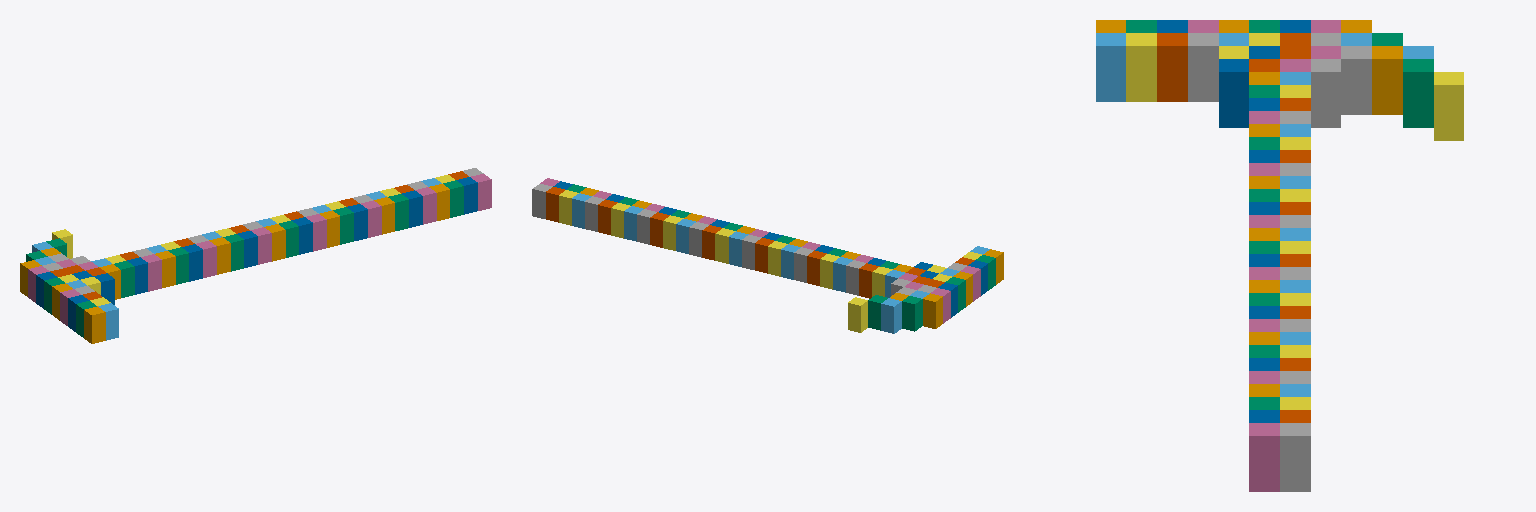
--- What the picture shows (computed from the rendered views, not written in the file) ---
Views: 3 orthographic renders of the robot side by side, from view 1: azimuth 30°, elevation 25°; view 2: azimuth 150°, elevation 25°; view 3: azimuth 270°, elevation 25°.
Model hammer with 88 links and 87 joints (87 fixed), rooted at box0, posed all joints at 0.
Links seen in each view (by area): view 1: box0; view 2: box25, box18, box16, box27; view 3: box3, box5, box7, box23, box24, box26, box86, box87, box1, box27, box28, box31.
Boxes of the visible links, <box> form: box0: <box>84,306,105,343</box>; box25: <box>881,298,901,333</box>; box18: <box>902,296,922,331</box>; box16: <box>923,293,942,328</box>; box27: <box>848,297,867,332</box>; box3: <box>1126,33,1156,101</box>; box5: <box>1157,33,1187,101</box>; box7: <box>1188,33,1218,101</box>; box23: <box>1341,46,1371,114</box>; box24: <box>1372,46,1402,114</box>; box26: <box>1403,59,1433,127</box>; box86: <box>1249,423,1279,491</box>; box87: <box>1280,423,1310,491</box>; box1: <box>1096,33,1125,101</box>; box27: <box>1434,72,1463,140</box>; box28: <box>1219,59,1248,127</box>; box31: <box>1311,59,1340,127</box>.
Size in the robot's own frame: 32 by 12 by 2 metres.
Geometry: primitives only (box / cylinder / sphere), no mesh files.

URDF robot description (hammer):
<robot name = "hammer">
	<link name = "box0">
		<visual>
			<origin xyz="0.0 0.0 0.0"/>
			<geometry>
				<box size = "1 1 2"/>
			</geometry>
		</visual>
		<collision>
			<origin xyz="0.0 0.0 0.0"/>
			<geometry>
				<box size = "1 1 2"/>
			</geometry>
		</collision>
		<contact>
			<lateral_friction value = "0.1"/>
		</contact>
		<inertial>
			<mass value = "0.0011363636363636365"/>
			<inertia ixx="0.00047348484848484855" ixy="0.0" ixz="0.0" iyy="0.00047348484848484855" iyz="0.0" izz="0.00018939393939393942"/>
			<origin xyz="0.0 0.0 0.0"/>
		</inertial>
	</link>
	<link name = "box1">
		<visual>
			<origin xyz="1.0 0.0 0.0"/>
			<geometry>
				<box size = "1 1 2"/>
			</geometry>
		</visual>
		<collision>
			<origin xyz="1.0 0.0 0.0"/>
			<geometry>
				<box size = "1 1 2"/>
			</geometry>
		</collision>
		<contact>
			<lateral_friction value = "0.1"/>
		</contact>
		<inertial>
			<mass value = "0.0011363636363636365"/>
			<inertia ixx="0.00047348484848484855" ixy="0.0" ixz="0.0" iyy="0.00047348484848484855" iyz="0.0" izz="0.00018939393939393942"/>
			<origin xyz="1.0 0.0 0.0"/>
		</inertial>
	</link>
	<joint name = "joint1" type = "fixed">
		<parent link = "box0"/>
		<child link = "box1"/>
	</joint>
	<link name = "box2">
		<visual>
			<origin xyz="0.0 1.0 0.0"/>
			<geometry>
				<box size = "1 1 2"/>
			</geometry>
		</visual>
		<collision>
			<origin xyz="0.0 1.0 0.0"/>
			<geometry>
				<box size = "1 1 2"/>
			</geometry>
		</collision>
		<contact>
			<lateral_friction value = "0.1"/>
		</contact>
		<inertial>
			<mass value = "0.0011363636363636365"/>
			<inertia ixx="0.00047348484848484855" ixy="0.0" ixz="0.0" iyy="0.00047348484848484855" iyz="0.0" izz="0.00018939393939393942"/>
			<origin xyz="0.0 1.0 0.0"/>
		</inertial>
	</link>
	<joint name = "joint2" type = "fixed">
		<parent link = "box0"/>
		<child link = "box2"/>
	</joint>
	<link name = "box3">
		<visual>
			<origin xyz="1.0 1.0 0.0"/>
			<geometry>
				<box size = "1 1 2"/>
			</geometry>
		</visual>
		<collision>
			<origin xyz="1.0 1.0 0.0"/>
			<geometry>
				<box size = "1 1 2"/>
			</geometry>
		</collision>
		<contact>
			<lateral_friction value = "0.1"/>
		</contact>
		<inertial>
			<mass value = "0.0011363636363636365"/>
			<inertia ixx="0.00047348484848484855" ixy="0.0" ixz="0.0" iyy="0.00047348484848484855" iyz="0.0" izz="0.00018939393939393942"/>
			<origin xyz="1.0 1.0 0.0"/>
		</inertial>
	</link>
	<joint name = "joint3" type = "fixed">
		<parent link = "box0"/>
		<child link = "box3"/>
	</joint>
	<link name = "box4">
		<visual>
			<origin xyz="0.0 2.0 0.0"/>
			<geometry>
				<box size = "1 1 2"/>
			</geometry>
		</visual>
		<collision>
			<origin xyz="0.0 2.0 0.0"/>
			<geometry>
				<box size = "1 1 2"/>
			</geometry>
		</collision>
		<contact>
			<lateral_friction value = "0.1"/>
		</contact>
		<inertial>
			<mass value = "0.0011363636363636365"/>
			<inertia ixx="0.00047348484848484855" ixy="0.0" ixz="0.0" iyy="0.00047348484848484855" iyz="0.0" izz="0.00018939393939393942"/>
			<origin xyz="0.0 2.0 0.0"/>
		</inertial>
	</link>
	<joint name = "joint4" type = "fixed">
		<parent link = "box0"/>
		<child link = "box4"/>
	</joint>
	<link name = "box5">
		<visual>
			<origin xyz="1.0 2.0 0.0"/>
			<geometry>
				<box size = "1 1 2"/>
			</geometry>
		</visual>
		<collision>
			<origin xyz="1.0 2.0 0.0"/>
			<geometry>
				<box size = "1 1 2"/>
			</geometry>
		</collision>
		<contact>
			<lateral_friction value = "0.1"/>
		</contact>
		<inertial>
			<mass value = "0.0011363636363636365"/>
			<inertia ixx="0.00047348484848484855" ixy="0.0" ixz="0.0" iyy="0.00047348484848484855" iyz="0.0" izz="0.00018939393939393942"/>
			<origin xyz="1.0 2.0 0.0"/>
		</inertial>
	</link>
	<joint name = "joint5" type = "fixed">
		<parent link = "box0"/>
		<child link = "box5"/>
	</joint>
	<link name = "box6">
		<visual>
			<origin xyz="0.0 3.0 0.0"/>
			<geometry>
				<box size = "1 1 2"/>
			</geometry>
		</visual>
		<collision>
			<origin xyz="0.0 3.0 0.0"/>
			<geometry>
				<box size = "1 1 2"/>
			</geometry>
		</collision>
		<contact>
			<lateral_friction value = "0.1"/>
		</contact>
		<inertial>
			<mass value = "0.0011363636363636365"/>
			<inertia ixx="0.00047348484848484855" ixy="0.0" ixz="0.0" iyy="0.00047348484848484855" iyz="0.0" izz="0.00018939393939393942"/>
			<origin xyz="0.0 3.0 0.0"/>
		</inertial>
	</link>
	<joint name = "joint6" type = "fixed">
		<parent link = "box0"/>
		<child link = "box6"/>
	</joint>
	<link name = "box7">
		<visual>
			<origin xyz="1.0 3.0 0.0"/>
			<geometry>
				<box size = "1 1 2"/>
			</geometry>
		</visual>
		<collision>
			<origin xyz="1.0 3.0 0.0"/>
			<geometry>
				<box size = "1 1 2"/>
			</geometry>
		</collision>
		<contact>
			<lateral_friction value = "0.1"/>
		</contact>
		<inertial>
			<mass value = "0.0011363636363636365"/>
			<inertia ixx="0.00047348484848484855" ixy="0.0" ixz="0.0" iyy="0.00047348484848484855" iyz="0.0" izz="0.00018939393939393942"/>
			<origin xyz="1.0 3.0 0.0"/>
		</inertial>
	</link>
	<joint name = "joint7" type = "fixed">
		<parent link = "box0"/>
		<child link = "box7"/>
	</joint>
	<link name = "box8">
		<visual>
			<origin xyz="0.0 4.0 0.0"/>
			<geometry>
				<box size = "1 1 2"/>
			</geometry>
		</visual>
		<collision>
			<origin xyz="0.0 4.0 0.0"/>
			<geometry>
				<box size = "1 1 2"/>
			</geometry>
		</collision>
		<contact>
			<lateral_friction value = "0.1"/>
		</contact>
		<inertial>
			<mass value = "0.0011363636363636365"/>
			<inertia ixx="0.00047348484848484855" ixy="0.0" ixz="0.0" iyy="0.00047348484848484855" iyz="0.0" izz="0.00018939393939393942"/>
			<origin xyz="0.0 4.0 0.0"/>
		</inertial>
	</link>
	<joint name = "joint8" type = "fixed">
		<parent link = "box0"/>
		<child link = "box8"/>
	</joint>
	<link name = "box9">
		<visual>
			<origin xyz="1.0 4.0 0.0"/>
			<geometry>
				<box size = "1 1 2"/>
			</geometry>
		</visual>
		<collision>
			<origin xyz="1.0 4.0 0.0"/>
			<geometry>
				<box size = "1 1 2"/>
			</geometry>
		</collision>
		<contact>
			<lateral_friction value = "0.1"/>
		</contact>
		<inertial>
			<mass value = "0.0011363636363636365"/>
			<inertia ixx="0.00047348484848484855" ixy="0.0" ixz="0.0" iyy="0.00047348484848484855" iyz="0.0" izz="0.00018939393939393942"/>
			<origin xyz="1.0 4.0 0.0"/>
		</inertial>
	</link>
	<joint name = "joint9" type = "fixed">
		<parent link = "box0"/>
		<child link = "box9"/>
	</joint>
	<link name = "box10">
		<visual>
			<origin xyz="0.0 5.0 0.0"/>
			<geometry>
				<box size = "1 1 2"/>
			</geometry>
		</visual>
		<collision>
			<origin xyz="0.0 5.0 0.0"/>
			<geometry>
				<box size = "1 1 2"/>
			</geometry>
		</collision>
		<contact>
			<lateral_friction value = "0.1"/>
		</contact>
		<inertial>
			<mass value = "0.0011363636363636365"/>
			<inertia ixx="0.00047348484848484855" ixy="0.0" ixz="0.0" iyy="0.00047348484848484855" iyz="0.0" izz="0.00018939393939393942"/>
			<origin xyz="0.0 5.0 0.0"/>
		</inertial>
	</link>
	<joint name = "joint10" type = "fixed">
		<parent link = "box0"/>
		<child link = "box10"/>
	</joint>
	<link name = "box11">
		<visual>
			<origin xyz="1.0 5.0 0.0"/>
			<geometry>
				<box size = "1 1 2"/>
			</geometry>
		</visual>
		<collision>
			<origin xyz="1.0 5.0 0.0"/>
			<geometry>
				<box size = "1 1 2"/>
			</geometry>
		</collision>
		<contact>
			<lateral_friction value = "0.1"/>
		</contact>
		<inertial>
			<mass value = "0.0011363636363636365"/>
			<inertia ixx="0.00047348484848484855" ixy="0.0" ixz="0.0" iyy="0.00047348484848484855" iyz="0.0" izz="0.00018939393939393942"/>
			<origin xyz="1.0 5.0 0.0"/>
		</inertial>
	</link>
	<joint name = "joint11" type = "fixed">
		<parent link = "box0"/>
		<child link = "box11"/>
	</joint>
	<link name = "box12">
		<visual>
			<origin xyz="0.0 6.0 0.0"/>
			<geometry>
				<box size = "1 1 2"/>
			</geometry>
		</visual>
		<collision>
			<origin xyz="0.0 6.0 0.0"/>
			<geometry>
				<box size = "1 1 2"/>
			</geometry>
		</collision>
		<contact>
			<lateral_friction value = "0.1"/>
		</contact>
		<inertial>
			<mass value = "0.0011363636363636365"/>
			<inertia ixx="0.00047348484848484855" ixy="0.0" ixz="0.0" iyy="0.00047348484848484855" iyz="0.0" izz="0.00018939393939393942"/>
			<origin xyz="0.0 6.0 0.0"/>
		</inertial>
	</link>
	<joint name = "joint12" type = "fixed">
		<parent link = "box0"/>
		<child link = "box12"/>
	</joint>
	<link name = "box13">
		<visual>
			<origin xyz="1.0 6.0 0.0"/>
			<geometry>
				<box size = "1 1 2"/>
			</geometry>
		</visual>
		<collision>
			<origin xyz="1.0 6.0 0.0"/>
			<geometry>
				<box size = "1 1 2"/>
			</geometry>
		</collision>
		<contact>
			<lateral_friction value = "0.1"/>
		</contact>
		<inertial>
			<mass value = "0.0011363636363636365"/>
			<inertia ixx="0.00047348484848484855" ixy="0.0" ixz="0.0" iyy="0.00047348484848484855" iyz="0.0" izz="0.00018939393939393942"/>
			<origin xyz="1.0 6.0 0.0"/>
		</inertial>
	</link>
	<joint name = "joint13" type = "fixed">
		<parent link = "box0"/>
		<child link = "box13"/>
	</joint>
	<link name = "box14">
		<visual>
			<origin xyz="0.0 7.0 0.0"/>
			<geometry>
				<box size = "1 1 2"/>
			</geometry>
		</visual>
		<collision>
			<origin xyz="0.0 7.0 0.0"/>
			<geometry>
				<box size = "1 1 2"/>
			</geometry>
		</collision>
		<contact>
			<lateral_friction value = "0.1"/>
		</contact>
		<inertial>
			<mass value = "0.0011363636363636365"/>
			<inertia ixx="0.00047348484848484855" ixy="0.0" ixz="0.0" iyy="0.00047348484848484855" iyz="0.0" izz="0.00018939393939393942"/>
			<origin xyz="0.0 7.0 0.0"/>
		</inertial>
	</link>
	<joint name = "joint14" type = "fixed">
		<parent link = "box0"/>
		<child link = "box14"/>
	</joint>
	<link name = "box15">
		<visual>
			<origin xyz="1.0 7.0 0.0"/>
			<geometry>
				<box size = "1 1 2"/>
			</geometry>
		</visual>
		<collision>
			<origin xyz="1.0 7.0 0.0"/>
			<geometry>
				<box size = "1 1 2"/>
			</geometry>
		</collision>
		<contact>
			<lateral_friction value = "0.1"/>
		</contact>
		<inertial>
			<mass value = "0.0011363636363636365"/>
			<inertia ixx="0.00047348484848484855" ixy="0.0" ixz="0.0" iyy="0.00047348484848484855" iyz="0.0" izz="0.00018939393939393942"/>
			<origin xyz="1.0 7.0 0.0"/>
		</inertial>
	</link>
	<joint name = "joint15" type = "fixed">
		<parent link = "box0"/>
		<child link = "box15"/>
	</joint>
	<link name = "box16">
		<visual>
			<origin xyz="0.0 8.0 0.0"/>
			<geometry>
				<box size = "1 1 2"/>
			</geometry>
		</visual>
		<collision>
			<origin xyz="0.0 8.0 0.0"/>
			<geometry>
				<box size = "1 1 2"/>
			</geometry>
		</collision>
		<contact>
			<lateral_friction value = "0.1"/>
		</contact>
		<inertial>
			<mass value = "0.0011363636363636365"/>
			<inertia ixx="0.00047348484848484855" ixy="0.0" ixz="0.0" iyy="0.00047348484848484855" iyz="0.0" izz="0.00018939393939393942"/>
			<origin xyz="0.0 8.0 0.0"/>
		</inertial>
	</link>
	<joint name = "joint16" type = "fixed">
		<parent link = "box0"/>
		<child link = "box16"/>
	</joint>
	<link name = "box17">
		<visual>
			<origin xyz="1.0 8.0 0.0"/>
			<geometry>
				<box size = "1 1 2"/>
			</geometry>
		</visual>
		<collision>
			<origin xyz="1.0 8.0 0.0"/>
			<geometry>
				<box size = "1 1 2"/>
			</geometry>
		</collision>
		<contact>
			<lateral_friction value = "0.1"/>
		</contact>
		<inertial>
			<mass value = "0.0011363636363636365"/>
			<inertia ixx="0.00047348484848484855" ixy="0.0" ixz="0.0" iyy="0.00047348484848484855" iyz="0.0" izz="0.00018939393939393942"/>
			<origin xyz="1.0 8.0 0.0"/>
		</inertial>
	</link>
	<joint name = "joint17" type = "fixed">
		<parent link = "box0"/>
		<child link = "box17"/>
	</joint>
	<link name = "box18">
		<visual>
			<origin xyz="1.0 9.0 0.0"/>
			<geometry>
				<box size = "1 1 2"/>
			</geometry>
		</visual>
		<collision>
			<origin xyz="1.0 9.0 0.0"/>
			<geometry>
				<box size = "1 1 2"/>
			</geometry>
		</collision>
		<contact>
			<lateral_friction value = "0.1"/>
		</contact>
		<inertial>
			<mass value = "0.0011363636363636365"/>
			<inertia ixx="0.00047348484848484855" ixy="0.0" ixz="0.0" iyy="0.00047348484848484855" iyz="0.0" izz="0.00018939393939393942"/>
			<origin xyz="1.0 9.0 0.0"/>
		</inertial>
	</link>
	<joint name = "joint18" type = "fixed">
		<parent link = "box0"/>
		<child link = "box18"/>
	</joint>
	<link name = "box19">
		<visual>
			<origin xyz="2.0 4.0 0.0"/>
			<geometry>
				<box size = "1 1 2"/>
			</geometry>
		</visual>
		<collision>
			<origin xyz="2.0 4.0 0.0"/>
			<geometry>
				<box size = "1 1 2"/>
			</geometry>
		</collision>
		<contact>
			<lateral_friction value = "0.1"/>
		</contact>
		<inertial>
			<mass value = "0.0011363636363636365"/>
			<inertia ixx="0.00047348484848484855" ixy="0.0" ixz="0.0" iyy="0.00047348484848484855" iyz="0.0" izz="0.00018939393939393942"/>
			<origin xyz="2.0 4.0 0.0"/>
		</inertial>
	</link>
	<joint name = "joint19" type = "fixed">
		<parent link = "box0"/>
		<child link = "box19"/>
	</joint>
	<link name = "box20">
		<visual>
			<origin xyz="2.0 5.0 0.0"/>
			<geometry>
				<box size = "1 1 2"/>
			</geometry>
		</visual>
		<collision>
			<origin xyz="2.0 5.0 0.0"/>
			<geometry>
				<box size = "1 1 2"/>
			</geometry>
		</collision>
		<contact>
			<lateral_friction value = "0.1"/>
		</contact>
		<inertial>
			<mass value = "0.0011363636363636365"/>
			<inertia ixx="0.00047348484848484855" ixy="0.0" ixz="0.0" iyy="0.00047348484848484855" iyz="0.0" izz="0.00018939393939393942"/>
			<origin xyz="2.0 5.0 0.0"/>
		</inertial>
	</link>
	<joint name = "joint20" type = "fixed">
		<parent link = "box0"/>
		<child link = "box20"/>
	</joint>
	<link name = "box21">
		<visual>
			<origin xyz="2.0 6.0 0.0"/>
			<geometry>
				<box size = "1 1 2"/>
			</geometry>
		</visual>
		<collision>
			<origin xyz="2.0 6.0 0.0"/>
			<geometry>
				<box size = "1 1 2"/>
			</geometry>
		</collision>
		<contact>
			<lateral_friction value = "0.1"/>
		</contact>
		<inertial>
			<mass value = "0.0011363636363636365"/>
			<inertia ixx="0.00047348484848484855" ixy="0.0" ixz="0.0" iyy="0.00047348484848484855" iyz="0.0" izz="0.00018939393939393942"/>
			<origin xyz="2.0 6.0 0.0"/>
		</inertial>
	</link>
	<joint name = "joint21" type = "fixed">
		<parent link = "box0"/>
		<child link = "box21"/>
	</joint>
	<link name = "box22">
		<visual>
			<origin xyz="2.0 7.0 0.0"/>
			<geometry>
				<box size = "1 1 2"/>
			</geometry>
		</visual>
		<collision>
			<origin xyz="2.0 7.0 0.0"/>
			<geometry>
				<box size = "1 1 2"/>
			</geometry>
		</collision>
		<contact>
			<lateral_friction value = "0.1"/>
		</contact>
		<inertial>
			<mass value = "0.0011363636363636365"/>
			<inertia ixx="0.00047348484848484855" ixy="0.0" ixz="0.0" iyy="0.00047348484848484855" iyz="0.0" izz="0.00018939393939393942"/>
			<origin xyz="2.0 7.0 0.0"/>
		</inertial>
	</link>
	<joint name = "joint22" type = "fixed">
		<parent link = "box0"/>
		<child link = "box22"/>
	</joint>
	<link name = "box23">
		<visual>
			<origin xyz="2.0 8.0 0.0"/>
			<geometry>
				<box size = "1 1 2"/>
			</geometry>
		</visual>
		<collision>
			<origin xyz="2.0 8.0 0.0"/>
			<geometry>
				<box size = "1 1 2"/>
			</geometry>
		</collision>
		<contact>
			<lateral_friction value = "0.1"/>
		</contact>
		<inertial>
			<mass value = "0.0011363636363636365"/>
			<inertia ixx="0.00047348484848484855" ixy="0.0" ixz="0.0" iyy="0.00047348484848484855" iyz="0.0" izz="0.00018939393939393942"/>
			<origin xyz="2.0 8.0 0.0"/>
		</inertial>
	</link>
	<joint name = "joint23" type = "fixed">
		<parent link = "box0"/>
		<child link = "box23"/>
	</joint>
	<link name = "box24">
		<visual>
			<origin xyz="2.0 9.0 0.0"/>
			<geometry>
				<box size = "1 1 2"/>
			</geometry>
		</visual>
		<collision>
			<origin xyz="2.0 9.0 0.0"/>
			<geometry>
				<box size = "1 1 2"/>
			</geometry>
		</collision>
		<contact>
			<lateral_friction value = "0.1"/>
		</contact>
		<inertial>
			<mass value = "0.0011363636363636365"/>
			<inertia ixx="0.00047348484848484855" ixy="0.0" ixz="0.0" iyy="0.00047348484848484855" iyz="0.0" izz="0.00018939393939393942"/>
			<origin xyz="2.0 9.0 0.0"/>
		</inertial>
	</link>
	<joint name = "joint24" type = "fixed">
		<parent link = "box0"/>
		<child link = "box24"/>
	</joint>
	<link name = "box25">
		<visual>
			<origin xyz="2.0 10.0 0.0"/>
			<geometry>
				<box size = "1 1 2"/>
			</geometry>
		</visual>
		<collision>
			<origin xyz="2.0 10.0 0.0"/>
			<geometry>
				<box size = "1 1 2"/>
			</geometry>
		</collision>
		<contact>
			<lateral_friction value = "0.15"/>
		</contact>
		<inertial>
			<mass value = "0.0017045454545454545"/>
			<inertia ixx="0.0007102272727272726" ixy="0.0" ixz="0.0" iyy="0.0007102272727272726" iyz="0.0" izz="0.0002840909090909091"/>
			<origin xyz="2.0 10.0 0.0"/>
		</inertial>
	</link>
	<joint name = "joint25" type = "fixed">
		<parent link = "box0"/>
		<child link = "box25"/>
	</joint>
	<link name = "box26">
		<visual>
			<origin xyz="3.0 10.0 0.0"/>
			<geometry>
				<box size = "1 1 2"/>
			</geometry>
		</visual>
		<collision>
			<origin xyz="3.0 10.0 0.0"/>
			<geometry>
				<box size = "1 1 2"/>
			</geometry>
		</collision>
		<contact>
			<lateral_friction value = "0.15"/>
		</contact>
		<inertial>
			<mass value = "0.0017045454545454545"/>
			<inertia ixx="0.0007102272727272726" ixy="0.0" ixz="0.0" iyy="0.0007102272727272726" iyz="0.0" izz="0.0002840909090909091"/>
			<origin xyz="3.0 10.0 0.0"/>
		</inertial>
	</link>
	<joint name = "joint26" type = "fixed">
		<parent link = "box0"/>
		<child link = "box26"/>
	</joint>
	<link name = "box27">
		<visual>
			<origin xyz="4.0 11.0 0.0"/>
			<geometry>
				<box size = "1 1 2"/>
			</geometry>
		</visual>
		<collision>
			<origin xyz="4.0 11.0 0.0"/>
			<geometry>
				<box size = "1 1 2"/>
			</geometry>
		</collision>
		<contact>
			<lateral_friction value = "0.15"/>
		</contact>
		<inertial>
			<mass value = "0.0017045454545454545"/>
			<inertia ixx="0.0007102272727272726" ixy="0.0" ixz="0.0" iyy="0.0007102272727272726" iyz="0.0" izz="0.0002840909090909091"/>
			<origin xyz="4.0 11.0 0.0"/>
		</inertial>
	</link>
	<joint name = "joint27" type = "fixed">
		<parent link = "box0"/>
		<child link = "box27"/>
	</joint>
	<link name = "box28">
		<visual>
			<origin xyz="3.0 4.0 0.0"/>
			<geometry>
				<box size = "1 1 2"/>
			</geometry>
		</visual>
		<collision>
			<origin xyz="3.0 4.0 0.0"/>
			<geometry>
				<box size = "1 1 2"/>
			</geometry>
		</collision>
		<contact>
			<lateral_friction value = "0.15"/>
		</contact>
		<inertial>
			<mass value = "0.0017045454545454545"/>
			<inertia ixx="0.0007102272727272726" ixy="0.0" ixz="0.0" iyy="0.0007102272727272726" iyz="0.0" izz="0.0002840909090909091"/>
			<origin xyz="3.0 4.0 0.0"/>
		</inertial>
	</link>
	<joint name = "joint28" type = "fixed">
		<parent link = "box0"/>
		<child link = "box28"/>
	</joint>
	<link name = "box29">
		<visual>
			<origin xyz="3.0 5.0 0.0"/>
			<geometry>
				<box size = "1 1 2"/>
			</geometry>
		</visual>
		<collision>
			<origin xyz="3.0 5.0 0.0"/>
			<geometry>
				<box size = "1 1 2"/>
			</geometry>
		</collision>
		<contact>
			<lateral_friction value = "0.15"/>
		</contact>
		<inertial>
			<mass value = "0.0017045454545454545"/>
			<inertia ixx="0.0007102272727272726" ixy="0.0" ixz="0.0" iyy="0.0007102272727272726" iyz="0.0" izz="0.0002840909090909091"/>
			<origin xyz="3.0 5.0 0.0"/>
		</inertial>
	</link>
	<joint name = "joint29" type = "fixed">
		<parent link = "box0"/>
		<child link = "box29"/>
	</joint>
	<link name = "box30">
		<visual>
			<origin xyz="3.0 6.0 0.0"/>
			<geometry>
				<box size = "1 1 2"/>
			</geometry>
		</visual>
		<collision>
			<origin xyz="3.0 6.0 0.0"/>
			<geometry>
				<box size = "1 1 2"/>
			</geometry>
		</collision>
		<contact>
			<lateral_friction value = "0.15"/>
		</contact>
		<inertial>
			<mass value = "0.0017045454545454545"/>
			<inertia ixx="0.0007102272727272726" ixy="0.0" ixz="0.0" iyy="0.0007102272727272726" iyz="0.0" izz="0.0002840909090909091"/>
			<origin xyz="3.0 6.0 0.0"/>
		</inertial>
	</link>
	<joint name = "joint30" type = "fixed">
		<parent link = "box0"/>
		<child link = "box30"/>
	</joint>
	<link name = "box31">
		<visual>
			<origin xyz="3.0 7.0 0.0"/>
			<geometry>
				<box size = "1 1 2"/>
			</geometry>
		</visual>
		<collision>
			<origin xyz="3.0 7.0 0.0"/>
			<geometry>
				<box size = "1 1 2"/>
			</geometry>
		</collision>
		<contact>
			<lateral_friction value = "0.15"/>
		</contact>
		<inertial>
			<mass value = "0.0017045454545454545"/>
			<inertia ixx="0.0007102272727272726" ixy="0.0" ixz="0.0" iyy="0.0007102272727272726" iyz="0.0" izz="0.0002840909090909091"/>
			<origin xyz="3.0 7.0 0.0"/>
		</inertial>
	</link>
	<joint name = "joint31" type = "fixed">
		<parent link = "box0"/>
		<child link = "box31"/>
	</joint>
	<link name = "box32">
		<visual>
			<origin xyz="4.0 5.0 0.0"/>
			<geometry>
				<box size = "1 1 2"/>
			</geometry>
		</visual>
		<collision>
			<origin xyz="4.0 5.0 0.0"/>
			<geometry>
				<box size = "1 1 2"/>
			</geometry>
		</collision>
		<contact>
			<lateral_friction value = "0.3"/>
		</contact>
		<inertial>
			<mass value = "0.003409090909090909"/>
			<inertia ixx="0.0014204545454545453" ixy="0.0" ixz="0.0" iyy="0.0014204545454545453" iyz="0.0" izz="0.0005681818181818182"/>
			<origin xyz="4.0 5.0 0.0"/>
		</inertial>
	</link>
	<joint name = "joint32" type = "fixed">
		<parent link = "box0"/>
		<child link = "box32"/>
	</joint>
	<link name = "box33">
		<visual>
			<origin xyz="4.0 6.0 0.0"/>
			<geometry>
				<box size = "1 1 2"/>
			</geometry>
		</visual>
		<collision>
			<origin xyz="4.0 6.0 0.0"/>
			<geometry>
				<box size = "1 1 2"/>
			</geometry>
		</collision>
		<contact>
			<lateral_friction value = "0.3"/>
		</contact>
		<inertial>
			<mass value = "0.003409090909090909"/>
			<inertia ixx="0.0014204545454545453" ixy="0.0" ixz="0.0" iyy="0.0014204545454545453" iyz="0.0" izz="0.0005681818181818182"/>
			<origin xyz="4.0 6.0 0.0"/>
		</inertial>
	</link>
	<joint name = "joint33" type = "fixed">
		<parent link = "box0"/>
		<child link = "box33"/>
	</joint>
	<link name = "box34">
		<visual>
			<origin xyz="5.0 5.0 0.0"/>
			<geometry>
				<box size = "1 1 2"/>
			</geometry>
		</visual>
		<collision>
			<origin xyz="5.0 5.0 0.0"/>
			<geometry>
				<box size = "1 1 2"/>
			</geometry>
		</collision>
		<contact>
			<lateral_friction value = "0.3"/>
		</contact>
		<inertial>
			<mass value = "0.003409090909090909"/>
			<inertia ixx="0.0014204545454545453" ixy="0.0" ixz="0.0" iyy="0.0014204545454545453" iyz="0.0" izz="0.0005681818181818182"/>
			<origin xyz="5.0 5.0 0.0"/>
		</inertial>
	</link>
	<joint name = "joint34" type = "fixed">
		<parent link = "box0"/>
		<child link = "box34"/>
	</joint>
	<link name = "box35">
		<visual>
			<origin xyz="5.0 6.0 0.0"/>
			<geometry>
				<box size = "1 1 2"/>
			</geometry>
		</visual>
		<collision>
			<origin xyz="5.0 6.0 0.0"/>
			<geometry>
				<box size = "1 1 2"/>
			</geometry>
		</collision>
		<contact>
			<lateral_friction value = "0.3"/>
		</contact>
		<inertial>
			<mass value = "0.003409090909090909"/>
			<inertia ixx="0.0014204545454545453" ixy="0.0" ixz="0.0" iyy="0.0014204545454545453" iyz="0.0" izz="0.0005681818181818182"/>
			<origin xyz="5.0 6.0 0.0"/>
		</inertial>
	</link>
	<joint name = "joint35" type = "fixed">
		<parent link = "box0"/>
		<child link = "box35"/>
	</joint>
	<link name = "box36">
		<visual>
			<origin xyz="6.0 5.0 0.0"/>
			<geometry>
				<box size = "1 1 2"/>
			</geometry>
		</visual>
		<collision>
			<origin xyz="6.0 5.0 0.0"/>
			<geometry>
				<box size = "1 1 2"/>
			</geometry>
		</collision>
		<contact>
			<lateral_friction value = "0.3"/>
		</contact>
		<inertial>
			<mass value = "0.003409090909090909"/>
			<inertia ixx="0.0014204545454545453" ixy="0.0" ixz="0.0" iyy="0.0014204545454545453" iyz="0.0" izz="0.0005681818181818182"/>
			<origin xyz="6.0 5.0 0.0"/>
		</inertial>
	</link>
	<joint name = "joint36" type = "fixed">
		<parent link = "box0"/>
		<child link = "box36"/>
	</joint>
	<link name = "box37">
		<visual>
			<origin xyz="6.0 6.0 0.0"/>
			<geometry>
				<box size = "1 1 2"/>
			</geometry>
		</visual>
		<collision>
			<origin xyz="6.0 6.0 0.0"/>
			<geometry>
				<box size = "1 1 2"/>
			</geometry>
		</collision>
		<contact>
			<lateral_friction value = "0.3"/>
		</contact>
		<inertial>
			<mass value = "0.003409090909090909"/>
			<inertia ixx="0.0014204545454545453" ixy="0.0" ixz="0.0" iyy="0.0014204545454545453" iyz="0.0" izz="0.0005681818181818182"/>
			<origin xyz="6.0 6.0 0.0"/>
		</inertial>
	</link>
	<joint name = "joint37" type = "fixed">
		<parent link = "box0"/>
		<child link = "box37"/>
	</joint>
	<link name = "box38">
		<visual>
			<origin xyz="7.0 5.0 0.0"/>
			<geometry>
				<box size = "1 1 2"/>
			</geometry>
		</visual>
		<collision>
			<origin xyz="7.0 5.0 0.0"/>
			<geometry>
				<box size = "1 1 2"/>
			</geometry>
		</collision>
		<contact>
			<lateral_friction value = "0.3"/>
		</contact>
		<inertial>
			<mass value = "0.003409090909090909"/>
			<inertia ixx="0.0014204545454545453" ixy="0.0" ixz="0.0" iyy="0.0014204545454545453" iyz="0.0" izz="0.0005681818181818182"/>
			<origin xyz="7.0 5.0 0.0"/>
		</inertial>
	</link>
	<joint name = "joint38" type = "fixed">
		<parent link = "box0"/>
		<child link = "box38"/>
	</joint>
	<link name = "box39">
		<visual>
			<origin xyz="7.0 6.0 0.0"/>
			<geometry>
				<box size = "1 1 2"/>
			</geometry>
		</visual>
		<collision>
			<origin xyz="7.0 6.0 0.0"/>
			<geometry>
				<box size = "1 1 2"/>
			</geometry>
		</collision>
		<contact>
			<lateral_friction value = "0.3"/>
		</contact>
		<inertial>
			<mass value = "0.003409090909090909"/>
			<inertia ixx="0.0014204545454545453" ixy="0.0" ixz="0.0" iyy="0.0014204545454545453" iyz="0.0" izz="0.0005681818181818182"/>
			<origin xyz="7.0 6.0 0.0"/>
		</inertial>
	</link>
	<joint name = "joint39" type = "fixed">
		<parent link = "box0"/>
		<child link = "box39"/>
	</joint>
	<link name = "box40">
		<visual>
			<origin xyz="8.0 5.0 0.0"/>
			<geometry>
				<box size = "1 1 2"/>
			</geometry>
		</visual>
		<collision>
			<origin xyz="8.0 5.0 0.0"/>
			<geometry>
				<box size = "1 1 2"/>
			</geometry>
		</collision>
		<contact>
			<lateral_friction value = "0.3"/>
		</contact>
		<inertial>
			<mass value = "0.003409090909090909"/>
			<inertia ixx="0.0014204545454545453" ixy="0.0" ixz="0.0" iyy="0.0014204545454545453" iyz="0.0" izz="0.0005681818181818182"/>
			<origin xyz="8.0 5.0 0.0"/>
		</inertial>
	</link>
	<joint name = "joint40" type = "fixed">
		<parent link = "box0"/>
		<child link = "box40"/>
	</joint>
	<link name = "box41">
		<visual>
			<origin xyz="8.0 6.0 0.0"/>
			<geometry>
				<box size = "1 1 2"/>
			</geometry>
		</visual>
		<collision>
			<origin xyz="8.0 6.0 0.0"/>
			<geometry>
				<box size = "1 1 2"/>
			</geometry>
		</collision>
		<contact>
			<lateral_friction value = "0.3"/>
		</contact>
		<inertial>
			<mass value = "0.003409090909090909"/>
			<inertia ixx="0.0014204545454545453" ixy="0.0" ixz="0.0" iyy="0.0014204545454545453" iyz="0.0" izz="0.0005681818181818182"/>
			<origin xyz="8.0 6.0 0.0"/>
		</inertial>
	</link>
	<joint name = "joint41" type = "fixed">
		<parent link = "box0"/>
		<child link = "box41"/>
	</joint>
	<link name = "box42">
		<visual>
			<origin xyz="9.0 5.0 0.0"/>
			<geometry>
				<box size = "1 1 2"/>
			</geometry>
		</visual>
		<collision>
			<origin xyz="9.0 5.0 0.0"/>
			<geometry>
				<box size = "1 1 2"/>
			</geometry>
		</collision>
		<contact>
			<lateral_friction value = "0.3"/>
		</contact>
		<inertial>
			<mass value = "0.003409090909090909"/>
			<inertia ixx="0.0014204545454545453" ixy="0.0" ixz="0.0" iyy="0.0014204545454545453" iyz="0.0" izz="0.0005681818181818182"/>
			<origin xyz="9.0 5.0 0.0"/>
		</inertial>
	</link>
	<joint name = "joint42" type = "fixed">
		<parent link = "box0"/>
		<child link = "box42"/>
	</joint>
	<link name = "box43">
		<visual>
			<origin xyz="9.0 6.0 0.0"/>
			<geometry>
				<box size = "1 1 2"/>
			</geometry>
		</visual>
		<collision>
			<origin xyz="9.0 6.0 0.0"/>
			<geometry>
				<box size = "1 1 2"/>
			</geometry>
		</collision>
		<contact>
			<lateral_friction value = "0.3"/>
		</contact>
		<inertial>
			<mass value = "0.003409090909090909"/>
			<inertia ixx="0.0014204545454545453" ixy="0.0" ixz="0.0" iyy="0.0014204545454545453" iyz="0.0" izz="0.0005681818181818182"/>
			<origin xyz="9.0 6.0 0.0"/>
		</inertial>
	</link>
	<joint name = "joint43" type = "fixed">
		<parent link = "box0"/>
		<child link = "box43"/>
	</joint>
	<link name = "box44">
		<visual>
			<origin xyz="10.0 5.0 0.0"/>
			<geometry>
				<box size = "1 1 2"/>
			</geometry>
		</visual>
		<collision>
			<origin xyz="10.0 5.0 0.0"/>
			<geometry>
				<box size = "1 1 2"/>
			</geometry>
		</collision>
		<contact>
			<lateral_friction value = "0.3"/>
		</contact>
		<inertial>
			<mass value = "0.003409090909090909"/>
			<inertia ixx="0.0014204545454545453" ixy="0.0" ixz="0.0" iyy="0.0014204545454545453" iyz="0.0" izz="0.0005681818181818182"/>
			<origin xyz="10.0 5.0 0.0"/>
		</inertial>
	</link>
	<joint name = "joint44" type = "fixed">
		<parent link = "box0"/>
		<child link = "box44"/>
	</joint>
	<link name = "box45">
		<visual>
			<origin xyz="10.0 6.0 0.0"/>
			<geometry>
				<box size = "1 1 2"/>
			</geometry>
		</visual>
		<collision>
			<origin xyz="10.0 6.0 0.0"/>
			<geometry>
				<box size = "1 1 2"/>
			</geometry>
		</collision>
		<contact>
			<lateral_friction value = "0.3"/>
		</contact>
		<inertial>
			<mass value = "0.003409090909090909"/>
			<inertia ixx="0.0014204545454545453" ixy="0.0" ixz="0.0" iyy="0.0014204545454545453" iyz="0.0" izz="0.0005681818181818182"/>
			<origin xyz="10.0 6.0 0.0"/>
		</inertial>
	</link>
	<joint name = "joint45" type = "fixed">
		<parent link = "box0"/>
		<child link = "box45"/>
	</joint>
	<link name = "box46">
		<visual>
			<origin xyz="11.0 5.0 0.0"/>
			<geometry>
				<box size = "1 1 2"/>
			</geometry>
		</visual>
		<collision>
			<origin xyz="11.0 5.0 0.0"/>
			<geometry>
				<box size = "1 1 2"/>
			</geometry>
		</collision>
		<contact>
			<lateral_friction value = "0.3"/>
		</contact>
		<inertial>
			<mass value = "0.003409090909090909"/>
			<inertia ixx="0.0014204545454545453" ixy="0.0" ixz="0.0" iyy="0.0014204545454545453" iyz="0.0" izz="0.0005681818181818182"/>
			<origin xyz="11.0 5.0 0.0"/>
		</inertial>
	</link>
	<joint name = "joint46" type = "fixed">
		<parent link = "box0"/>
		<child link = "box46"/>
	</joint>
	<link name = "box47">
		<visual>
			<origin xyz="11.0 6.0 0.0"/>
			<geometry>
				<box size = "1 1 2"/>
			</geometry>
		</visual>
		<collision>
			<origin xyz="11.0 6.0 0.0"/>
			<geometry>
				<box size = "1 1 2"/>
			</geometry>
		</collision>
		<contact>
			<lateral_friction value = "0.3"/>
		</contact>
		<inertial>
			<mass value = "0.003409090909090909"/>
			<inertia ixx="0.0014204545454545453" ixy="0.0" ixz="0.0" iyy="0.0014204545454545453" iyz="0.0" izz="0.0005681818181818182"/>
			<origin xyz="11.0 6.0 0.0"/>
		</inertial>
	</link>
	<joint name = "joint47" type = "fixed">
		<parent link = "box0"/>
		<child link = "box47"/>
	</joint>
	<link name = "box48">
		<visual>
			<origin xyz="12.0 5.0 0.0"/>
			<geometry>
				<box size = "1 1 2"/>
			</geometry>
		</visual>
		<collision>
			<origin xyz="12.0 5.0 0.0"/>
			<geometry>
				<box size = "1 1 2"/>
			</geometry>
		</collision>
		<contact>
			<lateral_friction value = "0.3"/>
		</contact>
		<inertial>
			<mass value = "0.003409090909090909"/>
			<inertia ixx="0.0014204545454545453" ixy="0.0" ixz="0.0" iyy="0.0014204545454545453" iyz="0.0" izz="0.0005681818181818182"/>
			<origin xyz="12.0 5.0 0.0"/>
		</inertial>
	</link>
	<joint name = "joint48" type = "fixed">
		<parent link = "box0"/>
		<child link = "box48"/>
	</joint>
	<link name = "box49">
		<visual>
			<origin xyz="12.0 6.0 0.0"/>
			<geometry>
				<box size = "1 1 2"/>
			</geometry>
		</visual>
		<collision>
			<origin xyz="12.0 6.0 0.0"/>
			<geometry>
				<box size = "1 1 2"/>
			</geometry>
		</collision>
		<contact>
			<lateral_friction value = "0.3"/>
		</contact>
		<inertial>
			<mass value = "0.003409090909090909"/>
			<inertia ixx="0.0014204545454545453" ixy="0.0" ixz="0.0" iyy="0.0014204545454545453" iyz="0.0" izz="0.0005681818181818182"/>
			<origin xyz="12.0 6.0 0.0"/>
		</inertial>
	</link>
	<joint name = "joint49" type = "fixed">
		<parent link = "box0"/>
		<child link = "box49"/>
	</joint>
	<link name = "box50">
		<visual>
			<origin xyz="13.0 5.0 0.0"/>
			<geometry>
				<box size = "1 1 2"/>
			</geometry>
		</visual>
		<collision>
			<origin xyz="13.0 5.0 0.0"/>
			<geometry>
				<box size = "1 1 2"/>
			</geometry>
		</collision>
		<contact>
			<lateral_friction value = "0.3"/>
		</contact>
		<inertial>
			<mass value = "0.003409090909090909"/>
			<inertia ixx="0.0014204545454545453" ixy="0.0" ixz="0.0" iyy="0.0014204545454545453" iyz="0.0" izz="0.0005681818181818182"/>
			<origin xyz="13.0 5.0 0.0"/>
		</inertial>
	</link>
	<joint name = "joint50" type = "fixed">
		<parent link = "box0"/>
		<child link = "box50"/>
	</joint>
	<link name = "box51">
		<visual>
			<origin xyz="13.0 6.0 0.0"/>
			<geometry>
				<box size = "1 1 2"/>
			</geometry>
		</visual>
		<collision>
			<origin xyz="13.0 6.0 0.0"/>
			<geometry>
				<box size = "1 1 2"/>
			</geometry>
		</collision>
		<contact>
			<lateral_friction value = "0.3"/>
		</contact>
		<inertial>
			<mass value = "0.003409090909090909"/>
			<inertia ixx="0.0014204545454545453" ixy="0.0" ixz="0.0" iyy="0.0014204545454545453" iyz="0.0" izz="0.0005681818181818182"/>
			<origin xyz="13.0 6.0 0.0"/>
		</inertial>
	</link>
	<joint name = "joint51" type = "fixed">
		<parent link = "box0"/>
		<child link = "box51"/>
	</joint>
	<link name = "box52">
		<visual>
			<origin xyz="14.0 5.0 0.0"/>
			<geometry>
				<box size = "1 1 2"/>
			</geometry>
		</visual>
		<collision>
			<origin xyz="14.0 5.0 0.0"/>
			<geometry>
				<box size = "1 1 2"/>
			</geometry>
		</collision>
		<contact>
			<lateral_friction value = "0.3"/>
		</contact>
		<inertial>
			<mass value = "0.003409090909090909"/>
			<inertia ixx="0.0014204545454545453" ixy="0.0" ixz="0.0" iyy="0.0014204545454545453" iyz="0.0" izz="0.0005681818181818182"/>
			<origin xyz="14.0 5.0 0.0"/>
		</inertial>
	</link>
	<joint name = "joint52" type = "fixed">
		<parent link = "box0"/>
		<child link = "box52"/>
	</joint>
	<link name = "box53">
		<visual>
			<origin xyz="14.0 6.0 0.0"/>
			<geometry>
				<box size = "1 1 2"/>
			</geometry>
		</visual>
		<collision>
			<origin xyz="14.0 6.0 0.0"/>
			<geometry>
				<box size = "1 1 2"/>
			</geometry>
		</collision>
		<contact>
			<lateral_friction value = "0.3"/>
		</contact>
		<inertial>
			<mass value = "0.003409090909090909"/>
			<inertia ixx="0.0014204545454545453" ixy="0.0" ixz="0.0" iyy="0.0014204545454545453" iyz="0.0" izz="0.0005681818181818182"/>
			<origin xyz="14.0 6.0 0.0"/>
		</inertial>
	</link>
	<joint name = "joint53" type = "fixed">
		<parent link = "box0"/>
		<child link = "box53"/>
	</joint>
	<link name = "box54">
		<visual>
			<origin xyz="15.0 5.0 0.0"/>
			<geometry>
				<box size = "1 1 2"/>
			</geometry>
		</visual>
		<collision>
			<origin xyz="15.0 5.0 0.0"/>
			<geometry>
				<box size = "1 1 2"/>
			</geometry>
		</collision>
		<contact>
			<lateral_friction value = "0.3"/>
		</contact>
		<inertial>
			<mass value = "0.003409090909090909"/>
			<inertia ixx="0.0014204545454545453" ixy="0.0" ixz="0.0" iyy="0.0014204545454545453" iyz="0.0" izz="0.0005681818181818182"/>
			<origin xyz="15.0 5.0 0.0"/>
		</inertial>
	</link>
	<joint name = "joint54" type = "fixed">
		<parent link = "box0"/>
		<child link = "box54"/>
	</joint>
	<link name = "box55">
		<visual>
			<origin xyz="15.0 6.0 0.0"/>
			<geometry>
				<box size = "1 1 2"/>
			</geometry>
		</visual>
		<collision>
			<origin xyz="15.0 6.0 0.0"/>
			<geometry>
				<box size = "1 1 2"/>
			</geometry>
		</collision>
		<contact>
			<lateral_friction value = "0.3"/>
		</contact>
		<inertial>
			<mass value = "0.003409090909090909"/>
			<inertia ixx="0.0014204545454545453" ixy="0.0" ixz="0.0" iyy="0.0014204545454545453" iyz="0.0" izz="0.0005681818181818182"/>
			<origin xyz="15.0 6.0 0.0"/>
		</inertial>
	</link>
	<joint name = "joint55" type = "fixed">
		<parent link = "box0"/>
		<child link = "box55"/>
	</joint>
	<link name = "box56">
		<visual>
			<origin xyz="16.0 5.0 0.0"/>
			<geometry>
				<box size = "1 1 2"/>
			</geometry>
		</visual>
		<collision>
			<origin xyz="16.0 5.0 0.0"/>
			<geometry>
				<box size = "1 1 2"/>
			</geometry>
		</collision>
		<contact>
			<lateral_friction value = "0.3"/>
		</contact>
		<inertial>
			<mass value = "0.003409090909090909"/>
			<inertia ixx="0.0014204545454545453" ixy="0.0" ixz="0.0" iyy="0.0014204545454545453" iyz="0.0" izz="0.0005681818181818182"/>
			<origin xyz="16.0 5.0 0.0"/>
		</inertial>
	</link>
	<joint name = "joint56" type = "fixed">
		<parent link = "box0"/>
		<child link = "box56"/>
	</joint>
	<link name = "box57">
		<visual>
			<origin xyz="16.0 6.0 0.0"/>
			<geometry>
				<box size = "1 1 2"/>
			</geometry>
		</visual>
		<collision>
			<origin xyz="16.0 6.0 0.0"/>
			<geometry>
				<box size = "1 1 2"/>
			</geometry>
		</collision>
		<contact>
			<lateral_friction value = "0.3"/>
		</contact>
		<inertial>
			<mass value = "0.003409090909090909"/>
			<inertia ixx="0.0014204545454545453" ixy="0.0" ixz="0.0" iyy="0.0014204545454545453" iyz="0.0" izz="0.0005681818181818182"/>
			<origin xyz="16.0 6.0 0.0"/>
		</inertial>
	</link>
	<joint name = "joint57" type = "fixed">
		<parent link = "box0"/>
		<child link = "box57"/>
	</joint>
	<link name = "box58">
		<visual>
			<origin xyz="17.0 5.0 0.0"/>
			<geometry>
				<box size = "1 1 2"/>
			</geometry>
		</visual>
		<collision>
			<origin xyz="17.0 5.0 0.0"/>
			<geometry>
				<box size = "1 1 2"/>
			</geometry>
		</collision>
		<contact>
			<lateral_friction value = "0.3"/>
		</contact>
		<inertial>
			<mass value = "0.003409090909090909"/>
			<inertia ixx="0.0014204545454545453" ixy="0.0" ixz="0.0" iyy="0.0014204545454545453" iyz="0.0" izz="0.0005681818181818182"/>
			<origin xyz="17.0 5.0 0.0"/>
		</inertial>
	</link>
	<joint name = "joint58" type = "fixed">
		<parent link = "box0"/>
		<child link = "box58"/>
	</joint>
	<link name = "box59">
		<visual>
			<origin xyz="17.0 6.0 0.0"/>
			<geometry>
				<box size = "1 1 2"/>
			</geometry>
		</visual>
		<collision>
			<origin xyz="17.0 6.0 0.0"/>
			<geometry>
				<box size = "1 1 2"/>
			</geometry>
		</collision>
		<contact>
			<lateral_friction value = "0.3"/>
		</contact>
		<inertial>
			<mass value = "0.003409090909090909"/>
			<inertia ixx="0.0014204545454545453" ixy="0.0" ixz="0.0" iyy="0.0014204545454545453" iyz="0.0" izz="0.0005681818181818182"/>
			<origin xyz="17.0 6.0 0.0"/>
		</inertial>
	</link>
	<joint name = "joint59" type = "fixed">
		<parent link = "box0"/>
		<child link = "box59"/>
	</joint>
	<link name = "box60">
		<visual>
			<origin xyz="18.0 5.0 0.0"/>
			<geometry>
				<box size = "1 1 2"/>
			</geometry>
		</visual>
		<collision>
			<origin xyz="18.0 5.0 0.0"/>
			<geometry>
				<box size = "1 1 2"/>
			</geometry>
		</collision>
		<contact>
			<lateral_friction value = "0.3"/>
		</contact>
		<inertial>
			<mass value = "0.003409090909090909"/>
			<inertia ixx="0.0014204545454545453" ixy="0.0" ixz="0.0" iyy="0.0014204545454545453" iyz="0.0" izz="0.0005681818181818182"/>
			<origin xyz="18.0 5.0 0.0"/>
		</inertial>
	</link>
	<joint name = "joint60" type = "fixed">
		<parent link = "box0"/>
		<child link = "box60"/>
	</joint>
	<link name = "box61">
		<visual>
			<origin xyz="18.0 6.0 0.0"/>
			<geometry>
				<box size = "1 1 2"/>
			</geometry>
		</visual>
		<collision>
			<origin xyz="18.0 6.0 0.0"/>
			<geometry>
				<box size = "1 1 2"/>
			</geometry>
		</collision>
		<contact>
			<lateral_friction value = "0.3"/>
		</contact>
		<inertial>
			<mass value = "0.003409090909090909"/>
			<inertia ixx="0.0014204545454545453" ixy="0.0" ixz="0.0" iyy="0.0014204545454545453" iyz="0.0" izz="0.0005681818181818182"/>
			<origin xyz="18.0 6.0 0.0"/>
		</inertial>
	</link>
	<joint name = "joint61" type = "fixed">
		<parent link = "box0"/>
		<child link = "box61"/>
	</joint>
	<link name = "box62">
		<visual>
			<origin xyz="19.0 5.0 0.0"/>
			<geometry>
				<box size = "1 1 2"/>
			</geometry>
		</visual>
		<collision>
			<origin xyz="19.0 5.0 0.0"/>
			<geometry>
				<box size = "1 1 2"/>
			</geometry>
		</collision>
		<contact>
			<lateral_friction value = "0.3"/>
		</contact>
		<inertial>
			<mass value = "0.003409090909090909"/>
			<inertia ixx="0.0014204545454545453" ixy="0.0" ixz="0.0" iyy="0.0014204545454545453" iyz="0.0" izz="0.0005681818181818182"/>
			<origin xyz="19.0 5.0 0.0"/>
		</inertial>
	</link>
	<joint name = "joint62" type = "fixed">
		<parent link = "box0"/>
		<child link = "box62"/>
	</joint>
	<link name = "box63">
		<visual>
			<origin xyz="19.0 6.0 0.0"/>
			<geometry>
				<box size = "1 1 2"/>
			</geometry>
		</visual>
		<collision>
			<origin xyz="19.0 6.0 0.0"/>
			<geometry>
				<box size = "1 1 2"/>
			</geometry>
		</collision>
		<contact>
			<lateral_friction value = "0.3"/>
		</contact>
		<inertial>
			<mass value = "0.003409090909090909"/>
			<inertia ixx="0.0014204545454545453" ixy="0.0" ixz="0.0" iyy="0.0014204545454545453" iyz="0.0" izz="0.0005681818181818182"/>
			<origin xyz="19.0 6.0 0.0"/>
		</inertial>
	</link>
	<joint name = "joint63" type = "fixed">
		<parent link = "box0"/>
		<child link = "box63"/>
	</joint>
	<link name = "box64">
		<visual>
			<origin xyz="20.0 5.0 0.0"/>
			<geometry>
				<box size = "1 1 2"/>
			</geometry>
		</visual>
		<collision>
			<origin xyz="20.0 5.0 0.0"/>
			<geometry>
				<box size = "1 1 2"/>
			</geometry>
		</collision>
		<contact>
			<lateral_friction value = "0.3"/>
		</contact>
		<inertial>
			<mass value = "0.003409090909090909"/>
			<inertia ixx="0.0014204545454545453" ixy="0.0" ixz="0.0" iyy="0.0014204545454545453" iyz="0.0" izz="0.0005681818181818182"/>
			<origin xyz="20.0 5.0 0.0"/>
		</inertial>
	</link>
	<joint name = "joint64" type = "fixed">
		<parent link = "box0"/>
		<child link = "box64"/>
	</joint>
	<link name = "box65">
		<visual>
			<origin xyz="20.0 6.0 0.0"/>
			<geometry>
				<box size = "1 1 2"/>
			</geometry>
		</visual>
		<collision>
			<origin xyz="20.0 6.0 0.0"/>
			<geometry>
				<box size = "1 1 2"/>
			</geometry>
		</collision>
		<contact>
			<lateral_friction value = "0.3"/>
		</contact>
		<inertial>
			<mass value = "0.003409090909090909"/>
			<inertia ixx="0.0014204545454545453" ixy="0.0" ixz="0.0" iyy="0.0014204545454545453" iyz="0.0" izz="0.0005681818181818182"/>
			<origin xyz="20.0 6.0 0.0"/>
		</inertial>
	</link>
	<joint name = "joint65" type = "fixed">
		<parent link = "box0"/>
		<child link = "box65"/>
	</joint>
	<link name = "box66">
		<visual>
			<origin xyz="21.0 5.0 0.0"/>
			<geometry>
				<box size = "1 1 2"/>
			</geometry>
		</visual>
		<collision>
			<origin xyz="21.0 5.0 0.0"/>
			<geometry>
				<box size = "1 1 2"/>
			</geometry>
		</collision>
		<contact>
			<lateral_friction value = "0.3"/>
		</contact>
		<inertial>
			<mass value = "0.003409090909090909"/>
			<inertia ixx="0.0014204545454545453" ixy="0.0" ixz="0.0" iyy="0.0014204545454545453" iyz="0.0" izz="0.0005681818181818182"/>
			<origin xyz="21.0 5.0 0.0"/>
		</inertial>
	</link>
	<joint name = "joint66" type = "fixed">
		<parent link = "box0"/>
		<child link = "box66"/>
	</joint>
	<link name = "box67">
		<visual>
			<origin xyz="21.0 6.0 0.0"/>
			<geometry>
				<box size = "1 1 2"/>
			</geometry>
		</visual>
		<collision>
			<origin xyz="21.0 6.0 0.0"/>
			<geometry>
				<box size = "1 1 2"/>
			</geometry>
		</collision>
		<contact>
			<lateral_friction value = "0.3"/>
		</contact>
		<inertial>
			<mass value = "0.003409090909090909"/>
			<inertia ixx="0.0014204545454545453" ixy="0.0" ixz="0.0" iyy="0.0014204545454545453" iyz="0.0" izz="0.0005681818181818182"/>
			<origin xyz="21.0 6.0 0.0"/>
		</inertial>
	</link>
	<joint name = "joint67" type = "fixed">
		<parent link = "box0"/>
		<child link = "box67"/>
	</joint>
	<link name = "box68">
		<visual>
			<origin xyz="22.0 5.0 0.0"/>
			<geometry>
				<box size = "1 1 2"/>
			</geometry>
		</visual>
		<collision>
			<origin xyz="22.0 5.0 0.0"/>
			<geometry>
				<box size = "1 1 2"/>
			</geometry>
		</collision>
		<contact>
			<lateral_friction value = "0.3"/>
		</contact>
		<inertial>
			<mass value = "0.003409090909090909"/>
			<inertia ixx="0.0014204545454545453" ixy="0.0" ixz="0.0" iyy="0.0014204545454545453" iyz="0.0" izz="0.0005681818181818182"/>
			<origin xyz="22.0 5.0 0.0"/>
		</inertial>
	</link>
	<joint name = "joint68" type = "fixed">
		<parent link = "box0"/>
		<child link = "box68"/>
	</joint>
	<link name = "box69">
		<visual>
			<origin xyz="22.0 6.0 0.0"/>
			<geometry>
				<box size = "1 1 2"/>
			</geometry>
		</visual>
		<collision>
			<origin xyz="22.0 6.0 0.0"/>
			<geometry>
				<box size = "1 1 2"/>
			</geometry>
		</collision>
		<contact>
			<lateral_friction value = "0.3"/>
		</contact>
		<inertial>
			<mass value = "0.003409090909090909"/>
			<inertia ixx="0.0014204545454545453" ixy="0.0" ixz="0.0" iyy="0.0014204545454545453" iyz="0.0" izz="0.0005681818181818182"/>
			<origin xyz="22.0 6.0 0.0"/>
		</inertial>
	</link>
	<joint name = "joint69" type = "fixed">
		<parent link = "box0"/>
		<child link = "box69"/>
	</joint>
	<link name = "box70">
		<visual>
			<origin xyz="23.0 5.0 0.0"/>
			<geometry>
				<box size = "1 1 2"/>
			</geometry>
		</visual>
		<collision>
			<origin xyz="23.0 5.0 0.0"/>
			<geometry>
				<box size = "1 1 2"/>
			</geometry>
		</collision>
		<contact>
			<lateral_friction value = "0.3"/>
		</contact>
		<inertial>
			<mass value = "0.003409090909090909"/>
			<inertia ixx="0.0014204545454545453" ixy="0.0" ixz="0.0" iyy="0.0014204545454545453" iyz="0.0" izz="0.0005681818181818182"/>
			<origin xyz="23.0 5.0 0.0"/>
		</inertial>
	</link>
	<joint name = "joint70" type = "fixed">
		<parent link = "box0"/>
		<child link = "box70"/>
	</joint>
	<link name = "box71">
		<visual>
			<origin xyz="23.0 6.0 0.0"/>
			<geometry>
				<box size = "1 1 2"/>
			</geometry>
		</visual>
		<collision>
			<origin xyz="23.0 6.0 0.0"/>
			<geometry>
				<box size = "1 1 2"/>
			</geometry>
		</collision>
		<contact>
			<lateral_friction value = "0.3"/>
		</contact>
		<inertial>
			<mass value = "0.003409090909090909"/>
			<inertia ixx="0.0014204545454545453" ixy="0.0" ixz="0.0" iyy="0.0014204545454545453" iyz="0.0" izz="0.0005681818181818182"/>
			<origin xyz="23.0 6.0 0.0"/>
		</inertial>
	</link>
	<joint name = "joint71" type = "fixed">
		<parent link = "box0"/>
		<child link = "box71"/>
	</joint>
	<link name = "box72">
		<visual>
			<origin xyz="24.0 5.0 0.0"/>
			<geometry>
				<box size = "1 1 2"/>
			</geometry>
		</visual>
		<collision>
			<origin xyz="24.0 5.0 0.0"/>
			<geometry>
				<box size = "1 1 2"/>
			</geometry>
		</collision>
		<contact>
			<lateral_friction value = "0.3"/>
		</contact>
		<inertial>
			<mass value = "0.003409090909090909"/>
			<inertia ixx="0.0014204545454545453" ixy="0.0" ixz="0.0" iyy="0.0014204545454545453" iyz="0.0" izz="0.0005681818181818182"/>
			<origin xyz="24.0 5.0 0.0"/>
		</inertial>
	</link>
	<joint name = "joint72" type = "fixed">
		<parent link = "box0"/>
		<child link = "box72"/>
	</joint>
	<link name = "box73">
		<visual>
			<origin xyz="24.0 6.0 0.0"/>
			<geometry>
				<box size = "1 1 2"/>
			</geometry>
		</visual>
		<collision>
			<origin xyz="24.0 6.0 0.0"/>
			<geometry>
				<box size = "1 1 2"/>
			</geometry>
		</collision>
		<contact>
			<lateral_friction value = "0.3"/>
		</contact>
		<inertial>
			<mass value = "0.003409090909090909"/>
			<inertia ixx="0.0014204545454545453" ixy="0.0" ixz="0.0" iyy="0.0014204545454545453" iyz="0.0" izz="0.0005681818181818182"/>
			<origin xyz="24.0 6.0 0.0"/>
		</inertial>
	</link>
	<joint name = "joint73" type = "fixed">
		<parent link = "box0"/>
		<child link = "box73"/>
	</joint>
	<link name = "box74">
		<visual>
			<origin xyz="25.0 5.0 0.0"/>
			<geometry>
				<box size = "1 1 2"/>
			</geometry>
		</visual>
		<collision>
			<origin xyz="25.0 5.0 0.0"/>
			<geometry>
				<box size = "1 1 2"/>
			</geometry>
		</collision>
		<contact>
			<lateral_friction value = "0.3"/>
		</contact>
		<inertial>
			<mass value = "0.003409090909090909"/>
			<inertia ixx="0.0014204545454545453" ixy="0.0" ixz="0.0" iyy="0.0014204545454545453" iyz="0.0" izz="0.0005681818181818182"/>
			<origin xyz="25.0 5.0 0.0"/>
		</inertial>
	</link>
	<joint name = "joint74" type = "fixed">
		<parent link = "box0"/>
		<child link = "box74"/>
	</joint>
	<link name = "box75">
		<visual>
			<origin xyz="25.0 6.0 0.0"/>
			<geometry>
				<box size = "1 1 2"/>
			</geometry>
		</visual>
		<collision>
			<origin xyz="25.0 6.0 0.0"/>
			<geometry>
				<box size = "1 1 2"/>
			</geometry>
		</collision>
		<contact>
			<lateral_friction value = "0.3"/>
		</contact>
		<inertial>
			<mass value = "0.003409090909090909"/>
			<inertia ixx="0.0014204545454545453" ixy="0.0" ixz="0.0" iyy="0.0014204545454545453" iyz="0.0" izz="0.0005681818181818182"/>
			<origin xyz="25.0 6.0 0.0"/>
		</inertial>
	</link>
	<joint name = "joint75" type = "fixed">
		<parent link = "box0"/>
		<child link = "box75"/>
	</joint>
	<link name = "box76">
		<visual>
			<origin xyz="26.0 5.0 0.0"/>
			<geometry>
				<box size = "1 1 2"/>
			</geometry>
		</visual>
		<collision>
			<origin xyz="26.0 5.0 0.0"/>
			<geometry>
				<box size = "1 1 2"/>
			</geometry>
		</collision>
		<contact>
			<lateral_friction value = "0.3"/>
		</contact>
		<inertial>
			<mass value = "0.003409090909090909"/>
			<inertia ixx="0.0014204545454545453" ixy="0.0" ixz="0.0" iyy="0.0014204545454545453" iyz="0.0" izz="0.0005681818181818182"/>
			<origin xyz="26.0 5.0 0.0"/>
		</inertial>
	</link>
	<joint name = "joint76" type = "fixed">
		<parent link = "box0"/>
		<child link = "box76"/>
	</joint>
	<link name = "box77">
		<visual>
			<origin xyz="26.0 6.0 0.0"/>
			<geometry>
				<box size = "1 1 2"/>
			</geometry>
		</visual>
		<collision>
			<origin xyz="26.0 6.0 0.0"/>
			<geometry>
				<box size = "1 1 2"/>
			</geometry>
		</collision>
		<contact>
			<lateral_friction value = "0.3"/>
		</contact>
		<inertial>
			<mass value = "0.003409090909090909"/>
			<inertia ixx="0.0014204545454545453" ixy="0.0" ixz="0.0" iyy="0.0014204545454545453" iyz="0.0" izz="0.0005681818181818182"/>
			<origin xyz="26.0 6.0 0.0"/>
		</inertial>
	</link>
	<joint name = "joint77" type = "fixed">
		<parent link = "box0"/>
		<child link = "box77"/>
	</joint>
	<link name = "box78">
		<visual>
			<origin xyz="27.0 5.0 0.0"/>
			<geometry>
				<box size = "1 1 2"/>
			</geometry>
		</visual>
		<collision>
			<origin xyz="27.0 5.0 0.0"/>
			<geometry>
				<box size = "1 1 2"/>
			</geometry>
		</collision>
		<contact>
			<lateral_friction value = "0.3"/>
		</contact>
		<inertial>
			<mass value = "0.003409090909090909"/>
			<inertia ixx="0.0014204545454545453" ixy="0.0" ixz="0.0" iyy="0.0014204545454545453" iyz="0.0" izz="0.0005681818181818182"/>
			<origin xyz="27.0 5.0 0.0"/>
		</inertial>
	</link>
	<joint name = "joint78" type = "fixed">
		<parent link = "box0"/>
		<child link = "box78"/>
	</joint>
	<link name = "box79">
		<visual>
			<origin xyz="27.0 6.0 0.0"/>
			<geometry>
				<box size = "1 1 2"/>
			</geometry>
		</visual>
		<collision>
			<origin xyz="27.0 6.0 0.0"/>
			<geometry>
				<box size = "1 1 2"/>
			</geometry>
		</collision>
		<contact>
			<lateral_friction value = "0.3"/>
		</contact>
		<inertial>
			<mass value = "0.003409090909090909"/>
			<inertia ixx="0.0014204545454545453" ixy="0.0" ixz="0.0" iyy="0.0014204545454545453" iyz="0.0" izz="0.0005681818181818182"/>
			<origin xyz="27.0 6.0 0.0"/>
		</inertial>
	</link>
	<joint name = "joint79" type = "fixed">
		<parent link = "box0"/>
		<child link = "box79"/>
	</joint>
	<link name = "box80">
		<visual>
			<origin xyz="28.0 5.0 0.0"/>
			<geometry>
				<box size = "1 1 2"/>
			</geometry>
		</visual>
		<collision>
			<origin xyz="28.0 5.0 0.0"/>
			<geometry>
				<box size = "1 1 2"/>
			</geometry>
		</collision>
		<contact>
			<lateral_friction value = "0.3"/>
		</contact>
		<inertial>
			<mass value = "0.003409090909090909"/>
			<inertia ixx="0.0014204545454545453" ixy="0.0" ixz="0.0" iyy="0.0014204545454545453" iyz="0.0" izz="0.0005681818181818182"/>
			<origin xyz="28.0 5.0 0.0"/>
		</inertial>
	</link>
	<joint name = "joint80" type = "fixed">
		<parent link = "box0"/>
		<child link = "box80"/>
	</joint>
	<link name = "box81">
		<visual>
			<origin xyz="28.0 6.0 0.0"/>
			<geometry>
				<box size = "1 1 2"/>
			</geometry>
		</visual>
		<collision>
			<origin xyz="28.0 6.0 0.0"/>
			<geometry>
				<box size = "1 1 2"/>
			</geometry>
		</collision>
		<contact>
			<lateral_friction value = "0.3"/>
		</contact>
		<inertial>
			<mass value = "0.003409090909090909"/>
			<inertia ixx="0.0014204545454545453" ixy="0.0" ixz="0.0" iyy="0.0014204545454545453" iyz="0.0" izz="0.0005681818181818182"/>
			<origin xyz="28.0 6.0 0.0"/>
		</inertial>
	</link>
	<joint name = "joint81" type = "fixed">
		<parent link = "box0"/>
		<child link = "box81"/>
	</joint>
	<link name = "box82">
		<visual>
			<origin xyz="29.0 5.0 0.0"/>
			<geometry>
				<box size = "1 1 2"/>
			</geometry>
		</visual>
		<collision>
			<origin xyz="29.0 5.0 0.0"/>
			<geometry>
				<box size = "1 1 2"/>
			</geometry>
		</collision>
		<contact>
			<lateral_friction value = "0.3"/>
		</contact>
		<inertial>
			<mass value = "0.003409090909090909"/>
			<inertia ixx="0.0014204545454545453" ixy="0.0" ixz="0.0" iyy="0.0014204545454545453" iyz="0.0" izz="0.0005681818181818182"/>
			<origin xyz="29.0 5.0 0.0"/>
		</inertial>
	</link>
	<joint name = "joint82" type = "fixed">
		<parent link = "box0"/>
		<child link = "box82"/>
	</joint>
	<link name = "box83">
		<visual>
			<origin xyz="29.0 6.0 0.0"/>
			<geometry>
				<box size = "1 1 2"/>
			</geometry>
		</visual>
		<collision>
			<origin xyz="29.0 6.0 0.0"/>
			<geometry>
				<box size = "1 1 2"/>
			</geometry>
		</collision>
		<contact>
			<lateral_friction value = "0.3"/>
		</contact>
		<inertial>
			<mass value = "0.003409090909090909"/>
			<inertia ixx="0.0014204545454545453" ixy="0.0" ixz="0.0" iyy="0.0014204545454545453" iyz="0.0" izz="0.0005681818181818182"/>
			<origin xyz="29.0 6.0 0.0"/>
		</inertial>
	</link>
	<joint name = "joint83" type = "fixed">
		<parent link = "box0"/>
		<child link = "box83"/>
	</joint>
	<link name = "box84">
		<visual>
			<origin xyz="30.0 5.0 0.0"/>
			<geometry>
				<box size = "1 1 2"/>
			</geometry>
		</visual>
		<collision>
			<origin xyz="30.0 5.0 0.0"/>
			<geometry>
				<box size = "1 1 2"/>
			</geometry>
		</collision>
		<contact>
			<lateral_friction value = "0.3"/>
		</contact>
		<inertial>
			<mass value = "0.003409090909090909"/>
			<inertia ixx="0.0014204545454545453" ixy="0.0" ixz="0.0" iyy="0.0014204545454545453" iyz="0.0" izz="0.0005681818181818182"/>
			<origin xyz="30.0 5.0 0.0"/>
		</inertial>
	</link>
	<joint name = "joint84" type = "fixed">
		<parent link = "box0"/>
		<child link = "box84"/>
	</joint>
	<link name = "box85">
		<visual>
			<origin xyz="30.0 6.0 0.0"/>
			<geometry>
				<box size = "1 1 2"/>
			</geometry>
		</visual>
		<collision>
			<origin xyz="30.0 6.0 0.0"/>
			<geometry>
				<box size = "1 1 2"/>
			</geometry>
		</collision>
		<contact>
			<lateral_friction value = "0.3"/>
		</contact>
		<inertial>
			<mass value = "0.003409090909090909"/>
			<inertia ixx="0.0014204545454545453" ixy="0.0" ixz="0.0" iyy="0.0014204545454545453" iyz="0.0" izz="0.0005681818181818182"/>
			<origin xyz="30.0 6.0 0.0"/>
		</inertial>
	</link>
	<joint name = "joint85" type = "fixed">
		<parent link = "box0"/>
		<child link = "box85"/>
	</joint>
	<link name = "box86">
		<visual>
			<origin xyz="31.0 5.0 0.0"/>
			<geometry>
				<box size = "1 1 2"/>
			</geometry>
		</visual>
		<collision>
			<origin xyz="31.0 5.0 0.0"/>
			<geometry>
				<box size = "1 1 2"/>
			</geometry>
		</collision>
		<contact>
			<lateral_friction value = "0.3"/>
		</contact>
		<inertial>
			<mass value = "0.003409090909090909"/>
			<inertia ixx="0.0014204545454545453" ixy="0.0" ixz="0.0" iyy="0.0014204545454545453" iyz="0.0" izz="0.0005681818181818182"/>
			<origin xyz="31.0 5.0 0.0"/>
		</inertial>
	</link>
	<joint name = "joint86" type = "fixed">
		<parent link = "box0"/>
		<child link = "box86"/>
	</joint>
	<link name = "box87">
		<visual>
			<origin xyz="31.0 6.0 0.0"/>
			<geometry>
				<box size = "1 1 2"/>
			</geometry>
		</visual>
		<collision>
			<origin xyz="31.0 6.0 0.0"/>
			<geometry>
				<box size = "1 1 2"/>
			</geometry>
		</collision>
		<contact>
			<lateral_friction value = "0.3"/>
		</contact>
		<inertial>
			<mass value = "0.003409090909090909"/>
			<inertia ixx="0.0014204545454545453" ixy="0.0" ixz="0.0" iyy="0.0014204545454545453" iyz="0.0" izz="0.0005681818181818182"/>
			<origin xyz="31.0 6.0 0.0"/>
		</inertial>
	</link>
	<joint name = "joint87" type = "fixed">
		<parent link = "box0"/>
		<child link = "box87"/>
	</joint>
</robot>
